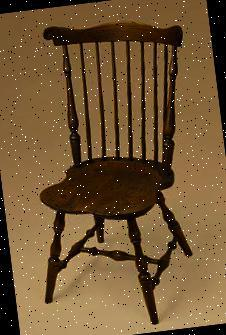Silla: (11, 11, 219, 334)
